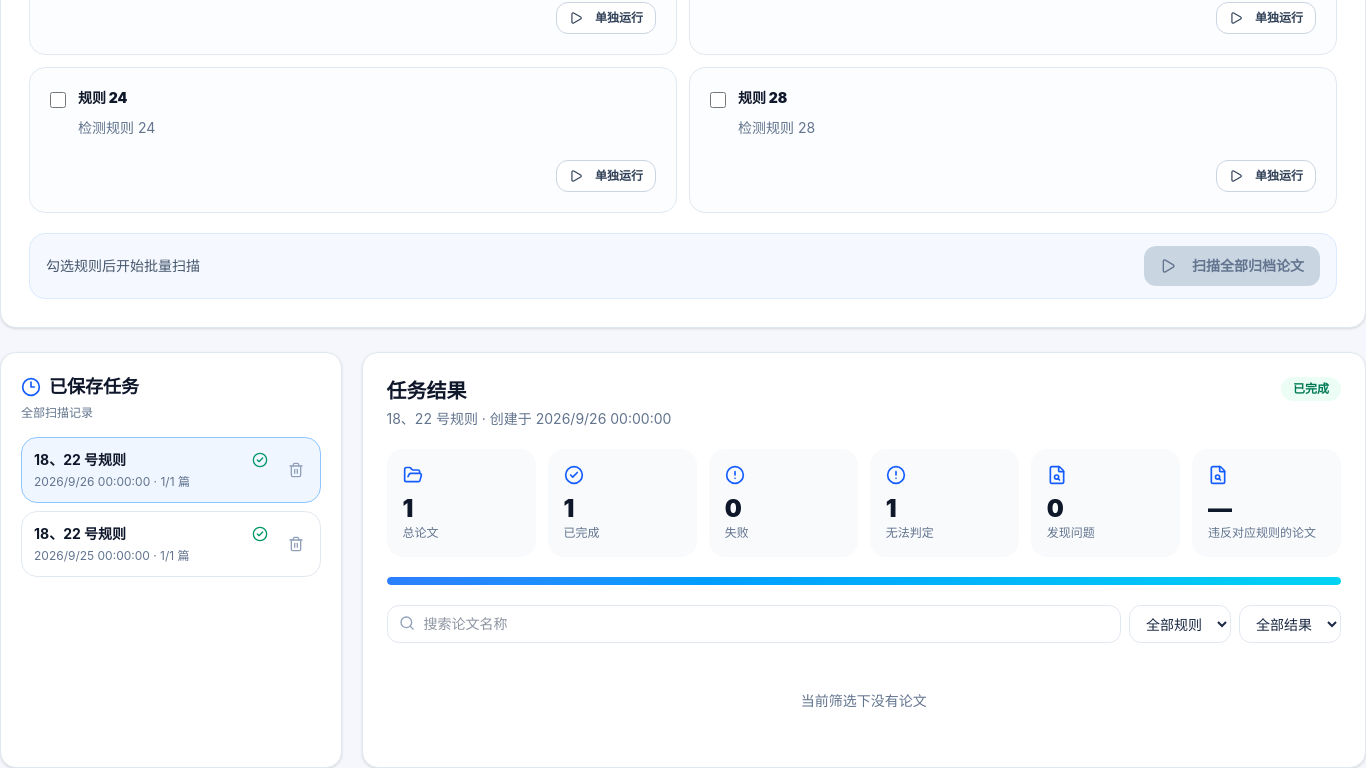
Test: archive scan page › confirms deletion of an older saved job and refreshes the list
The width and height of the screenshot is (1366, 768).
(page scrolled)
Click the button named "删除任务". click: (296, 544)
box: [280,528,312,560]
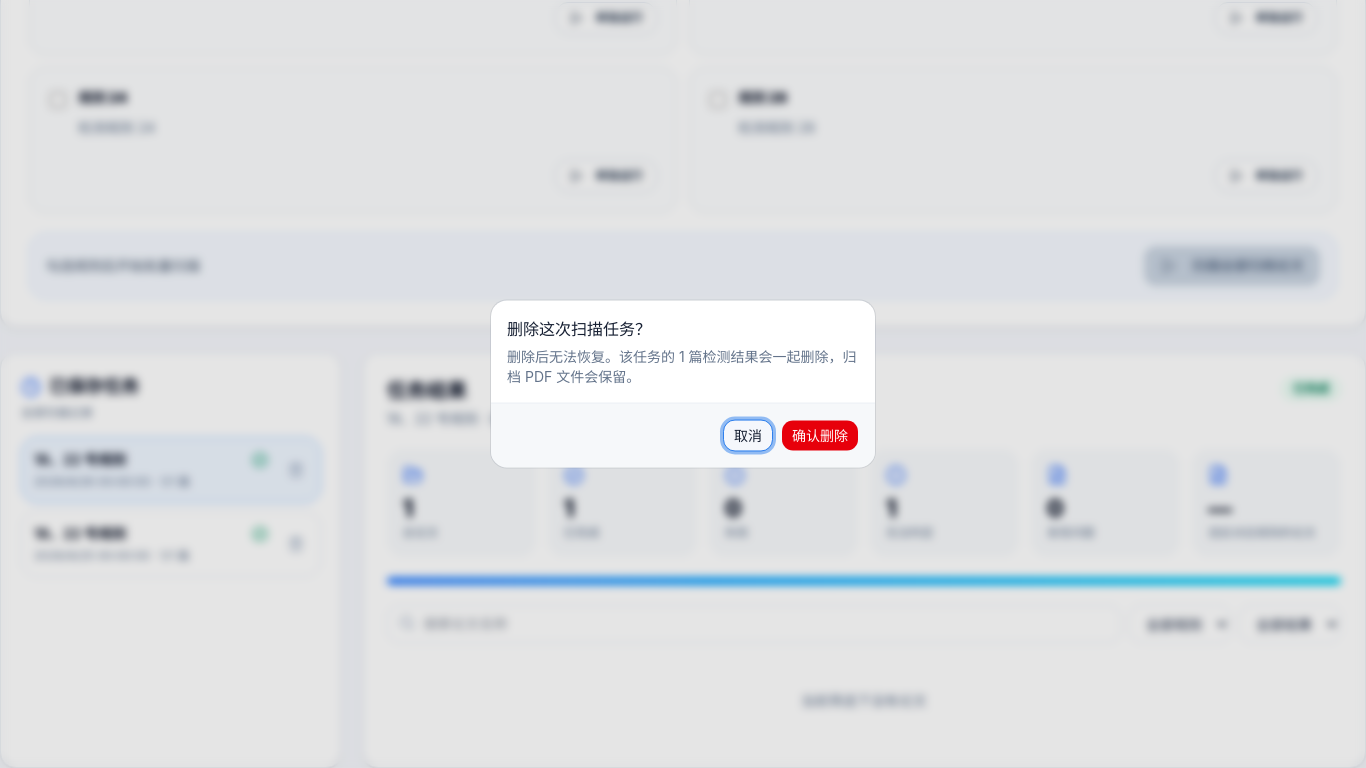
Now the dialog shows "删除后无法恢复", box [507,348,679,364]
Click the button "取消". click: (748, 436)
box: [723,420,773,452]
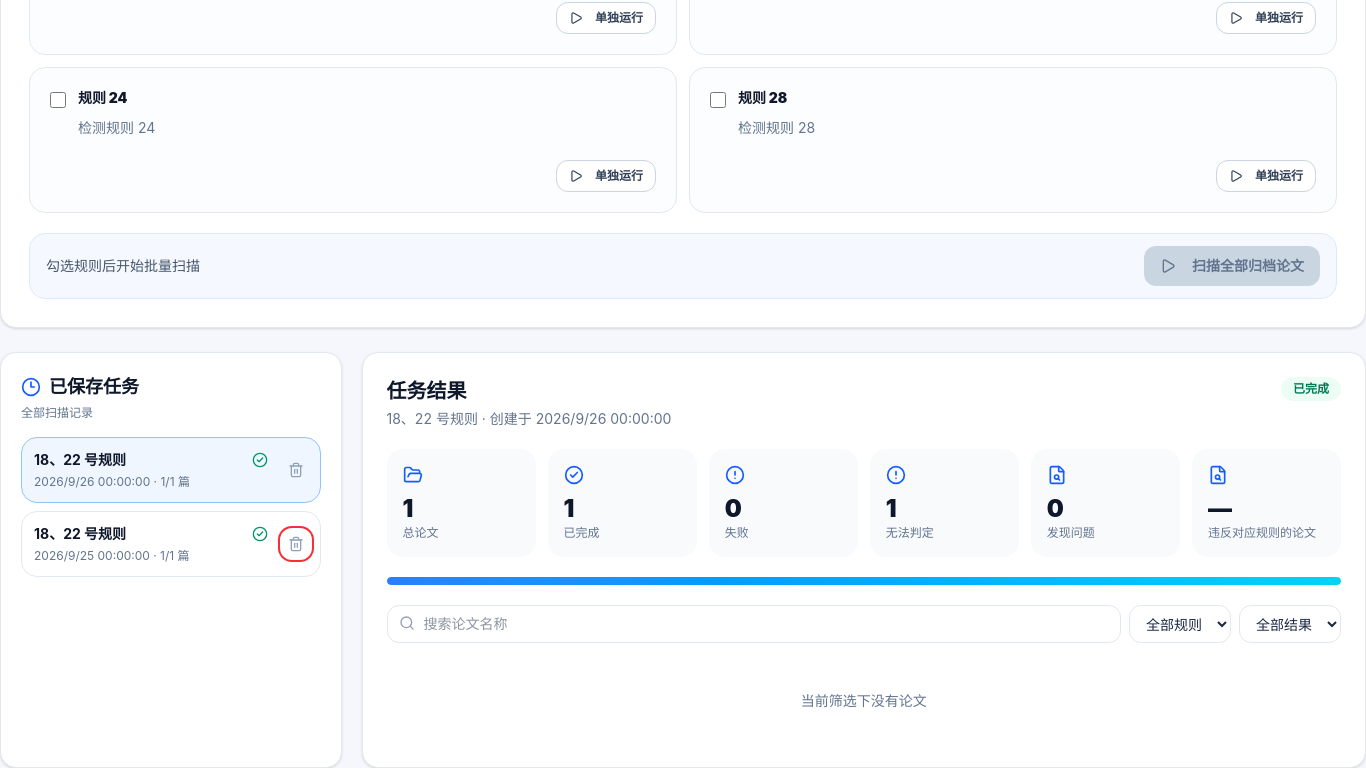
Click the button named "删除任务". click: (296, 544)
box: [280,528,312,560]
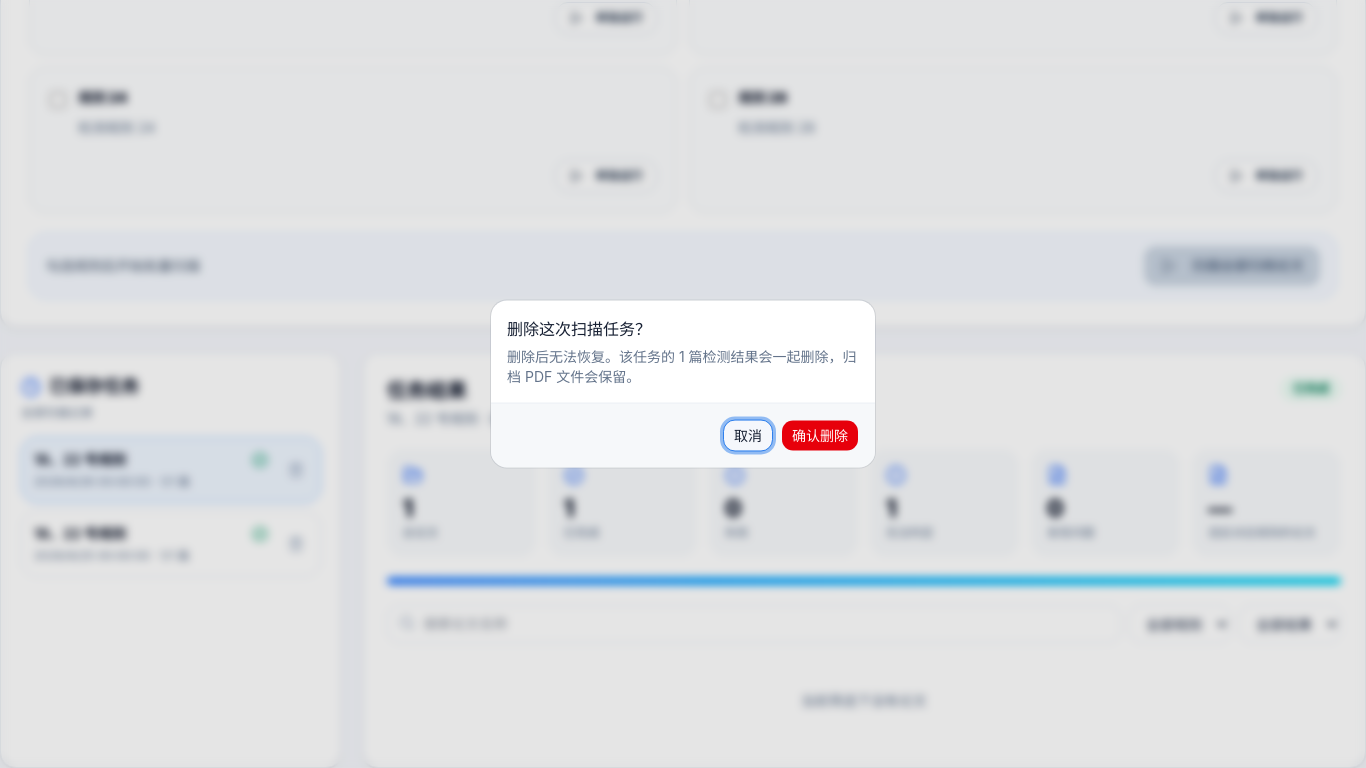
Click the button "确认删除". click: (820, 436)
box: [781,420,859,452]
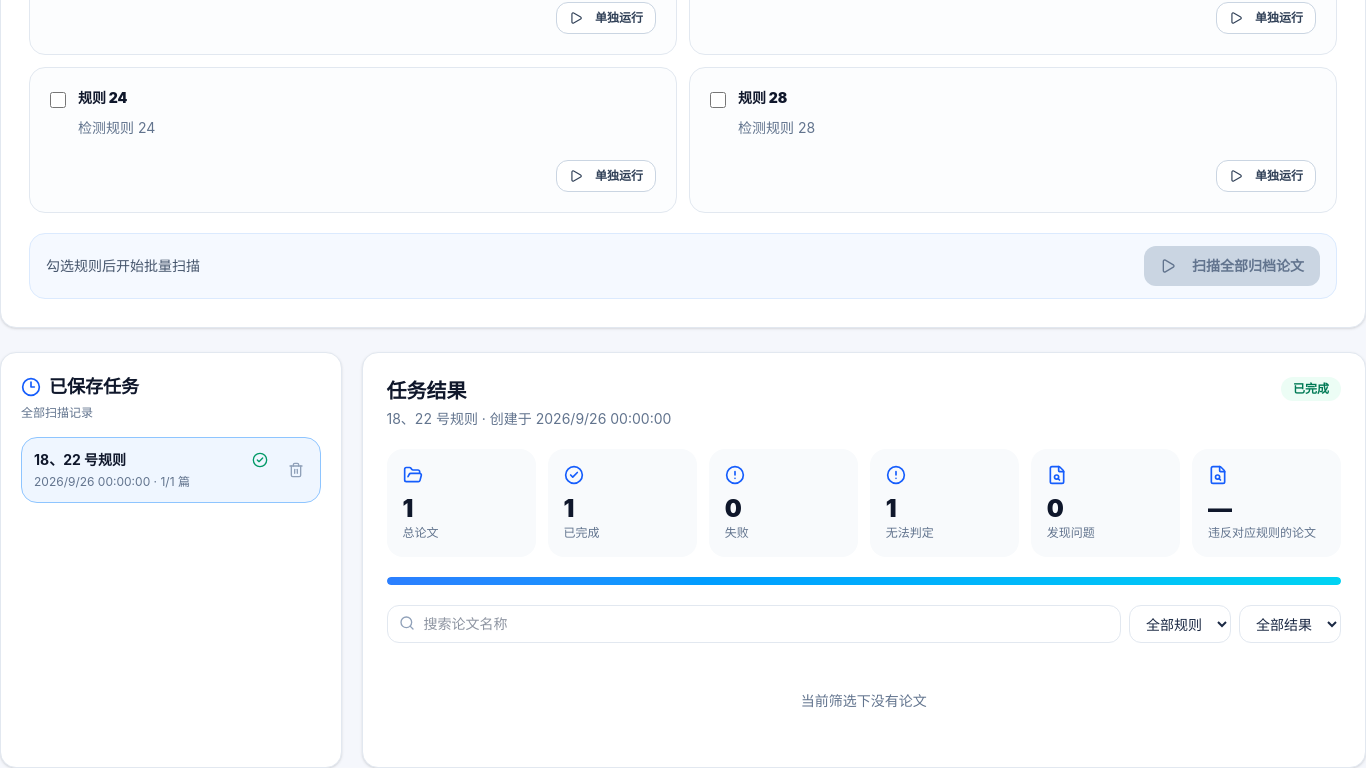
Now the number of buttons named "删除任务" is 1, box [280,454,312,486]
